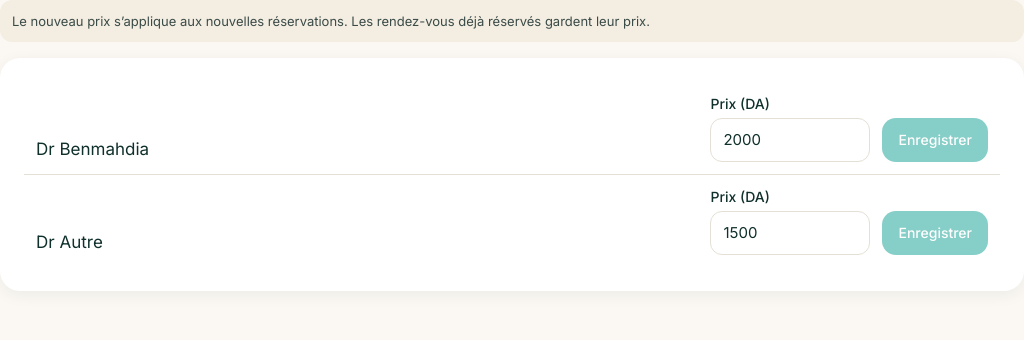
Test: Prices › says when saving failed
The image size is (1024, 340).
Replace the text in the number field named "Prix (DA) · Dr Benmahdia" with "2100" at (790, 140), box [710,118,870,162]
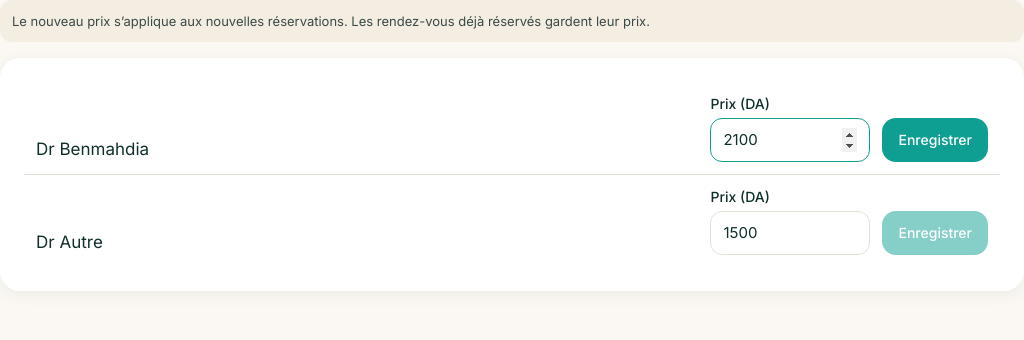
Click the button "Enregistrer" in the row of "Dr Benmahdia".
click(935, 140)  # box [882,118,988,162]
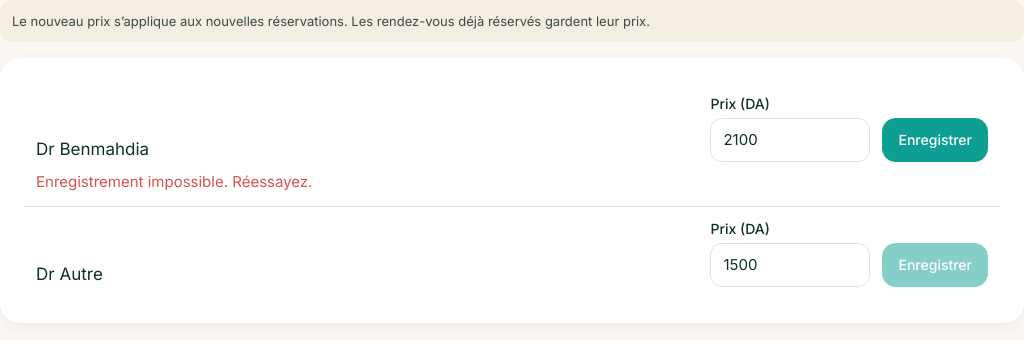
Result: the message reads "Enregistrement impossible. Réessayez." at [36,172,312,191]
